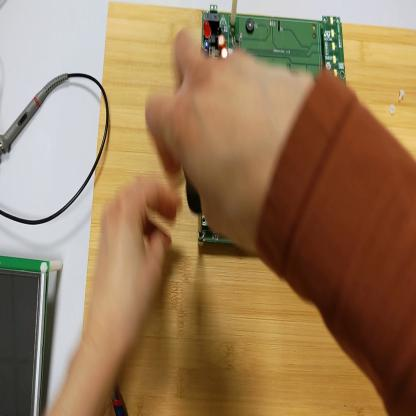hand: (147, 44, 305, 256), (87, 174, 178, 355)
low voltage board: (199, 9, 350, 250)
oscilloscope probe tip: (2, 72, 67, 155)
pliers: (110, 384, 127, 414)
screwdriver-: (183, 160, 204, 235)
working area: (81, 3, 416, 413)
